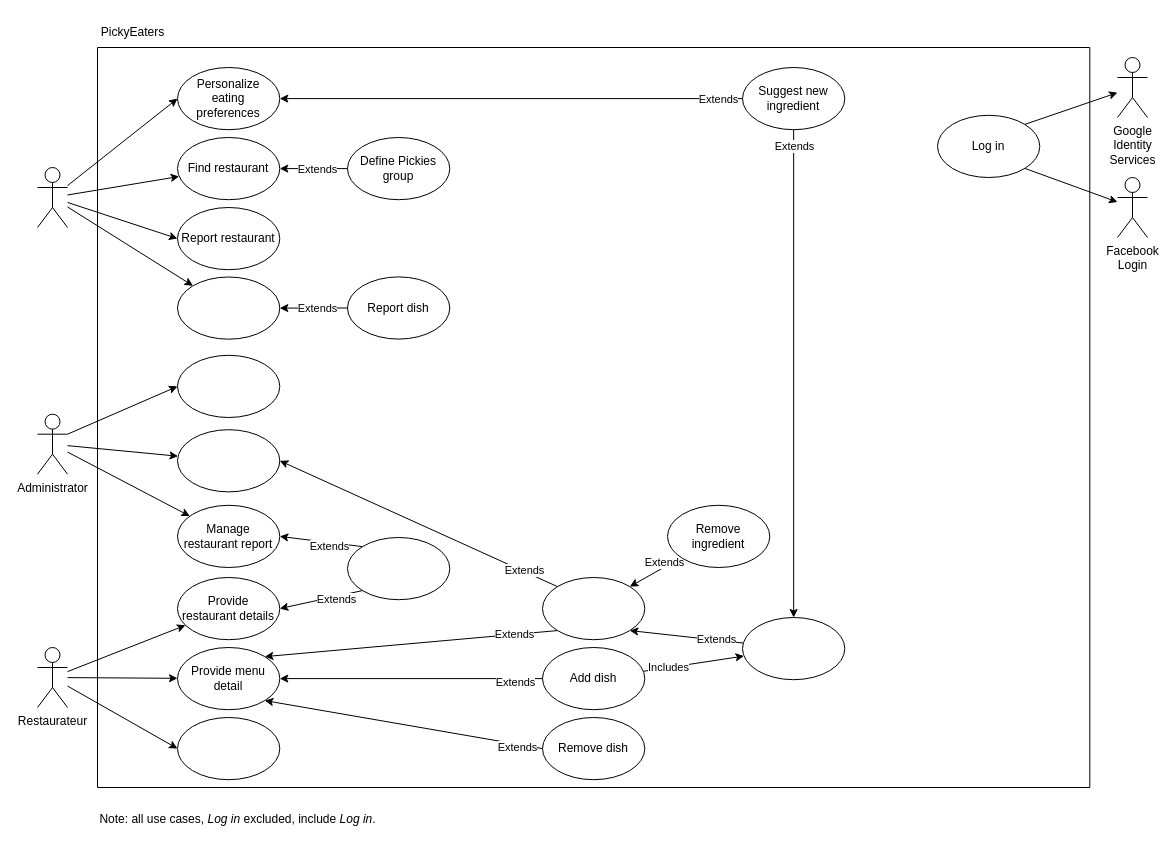
The diagram is 1176 pixels wide and 851 high, and some of its shapes have lost their labels. The centre of each missing label's shape, as x and y in pixels:
Add ingredient: point (793, 648)
Manage dish report: point (228, 460)
Manage new ingredient suggestion: point (228, 386)
Pickie: point (52, 197)
Review dish: point (228, 307)
Update dish: point (593, 608)
Update restaurant details: point (398, 568)
View statistics: point (228, 748)
